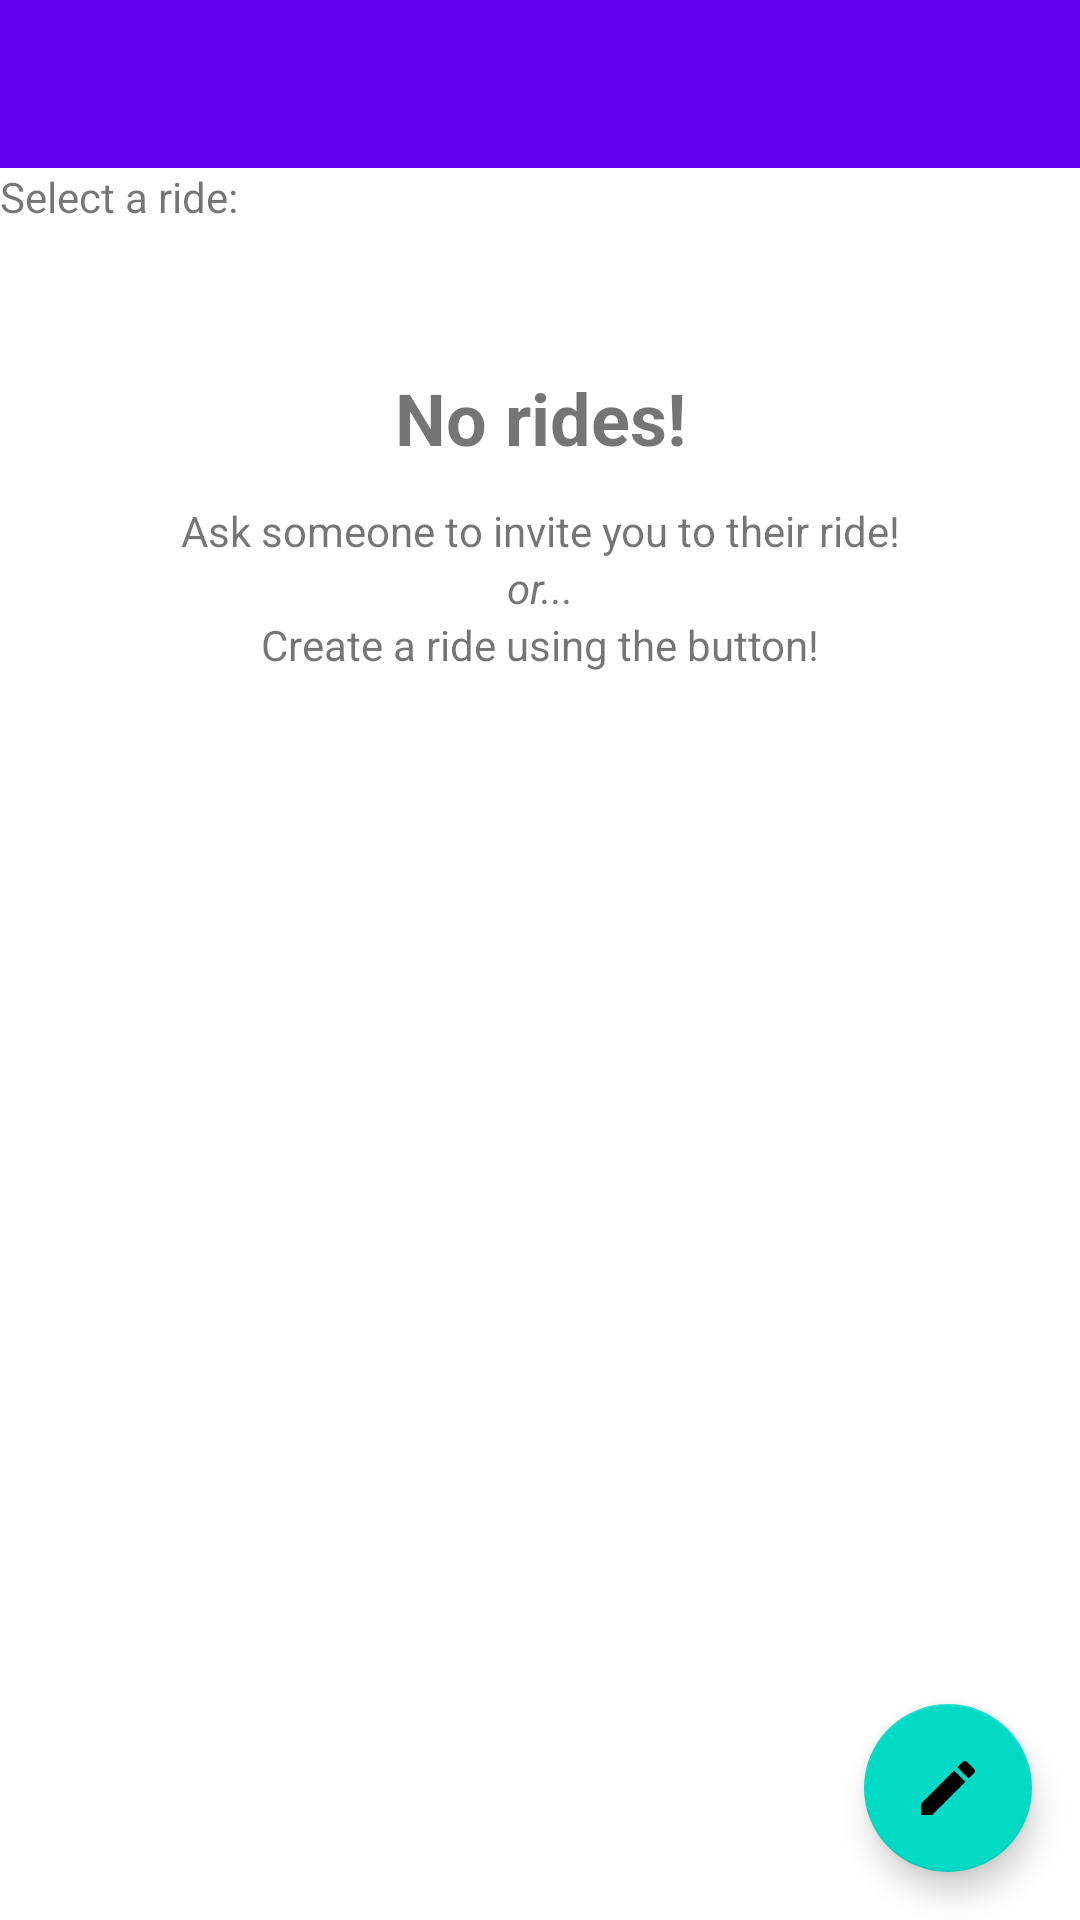

Named icons in this screenshot (1080×1920) and their centers, point (x, y):
Create Ride: point (948, 1788)
